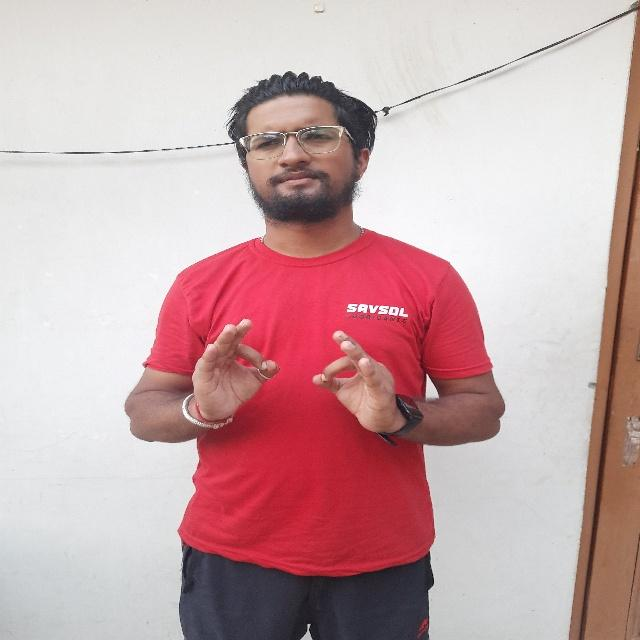Okay: (180, 312, 279, 439), (306, 317, 406, 437)
